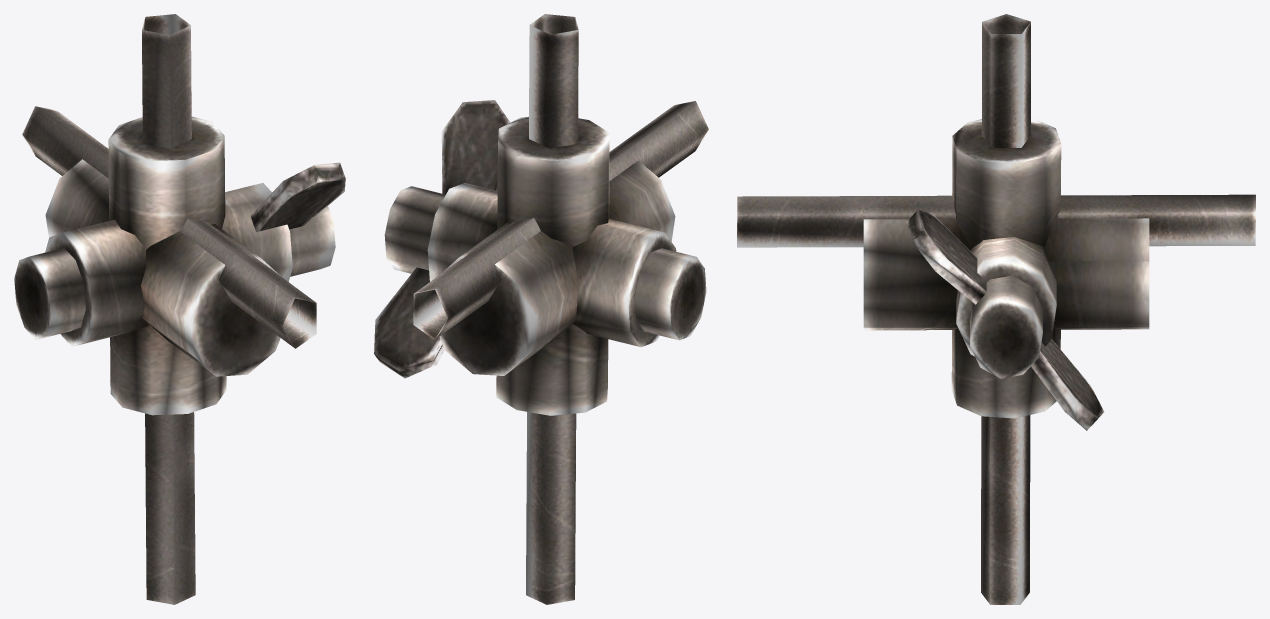
Rendered from Robot01.Chest_no_gum2.fbx.
3 views of the same model, side by side, from view 1: azimuth 30°, elevation 25°; view 2: azimuth 150°, elevation 25°; view 3: azimuth 270°, elevation 25° (orthographic).
Visible parts, largest first — view 1: mesh_1112; view 2: mesh_1112; view 3: mesh_1112.
Part boxes in pixels (x1,y1,x2,y2): mesh_1112: [14, 14, 345, 604]; mesh_1112: [374, 14, 708, 604]; mesh_1112: [737, 14, 1255, 604].
Bounding box in the file's own units: 44.7 × 85.47 × 70.6.
